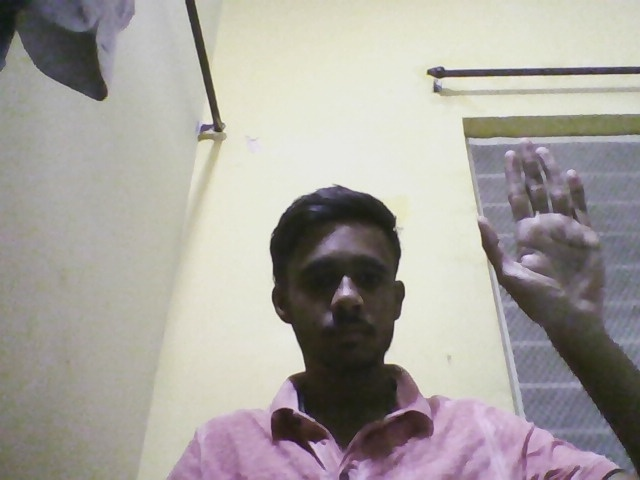hello: (466, 138, 634, 325)
